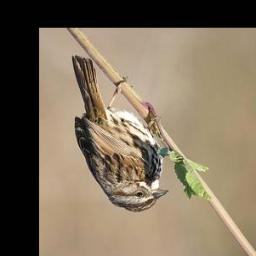Sparrow: (71, 55, 171, 215)
